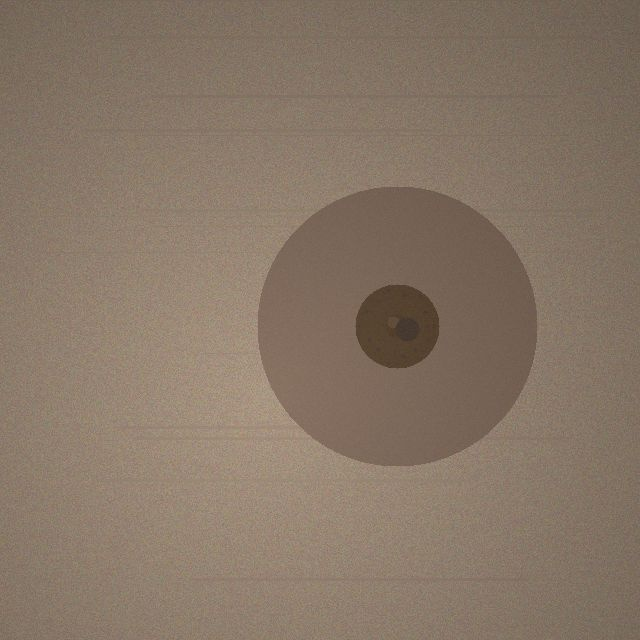cold_weld: (257, 186, 537, 466)
